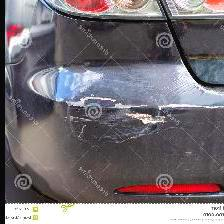bumper_dent: (33, 80, 178, 150)
